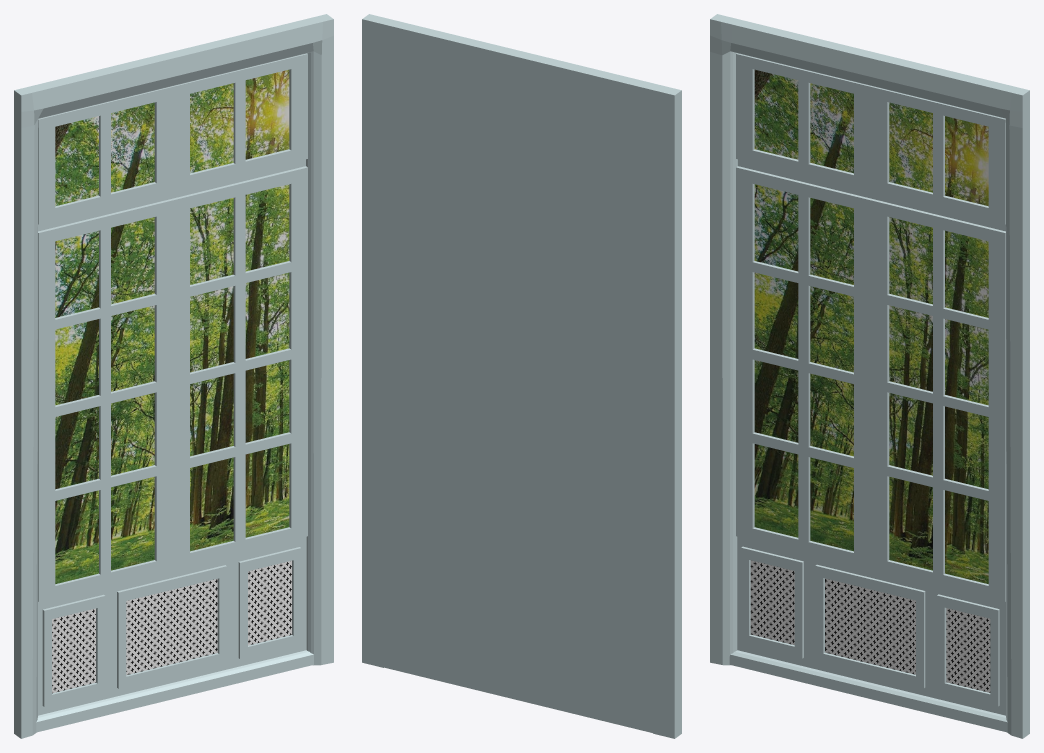
File: windowLeft.fbx
The picture shows the model from 3 angles, left to right: view 1: azimuth 30°, elevation 25°; view 2: azimuth 150°, elevation 25°; view 3: azimuth 330°, elevation 25°; orthographic projection.
Parts seen in each view (by area): view 1: Windows.001, Window.001, WindowBottom.001; view 2: Windows.001, Window.001, WindowBottom.001; view 3: Windows.001, Window.001, WindowBottom.001.
Boxes of the visible parts, left/top/right/bottom form: Windows.001: left=38, top=53, right=307, bottom=601; Window.001: left=14, top=14, right=333, bottom=738; WindowBottom.001: left=36, top=536, right=313, bottom=732; Windows.001: left=383, top=57, right=652, bottom=604; Window.001: left=362, top=14, right=681, bottom=738; WindowBottom.001: left=383, top=539, right=652, bottom=732; Windows.001: left=736, top=53, right=1005, bottom=601; Window.001: left=710, top=14, right=1029, bottom=738; WindowBottom.001: left=729, top=536, right=1007, bottom=732.
Bounding box in the file's own units: 658 × 1294 × 28.21.
